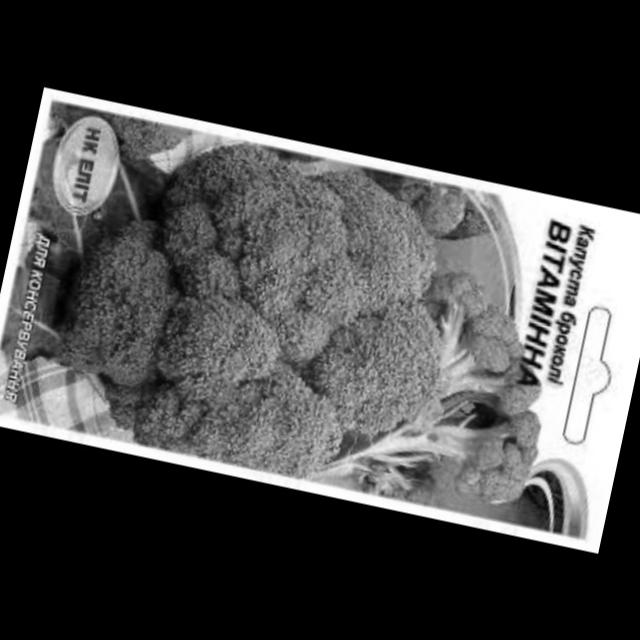bong cai xanh: (56, 127, 489, 482), (375, 288, 570, 528)
